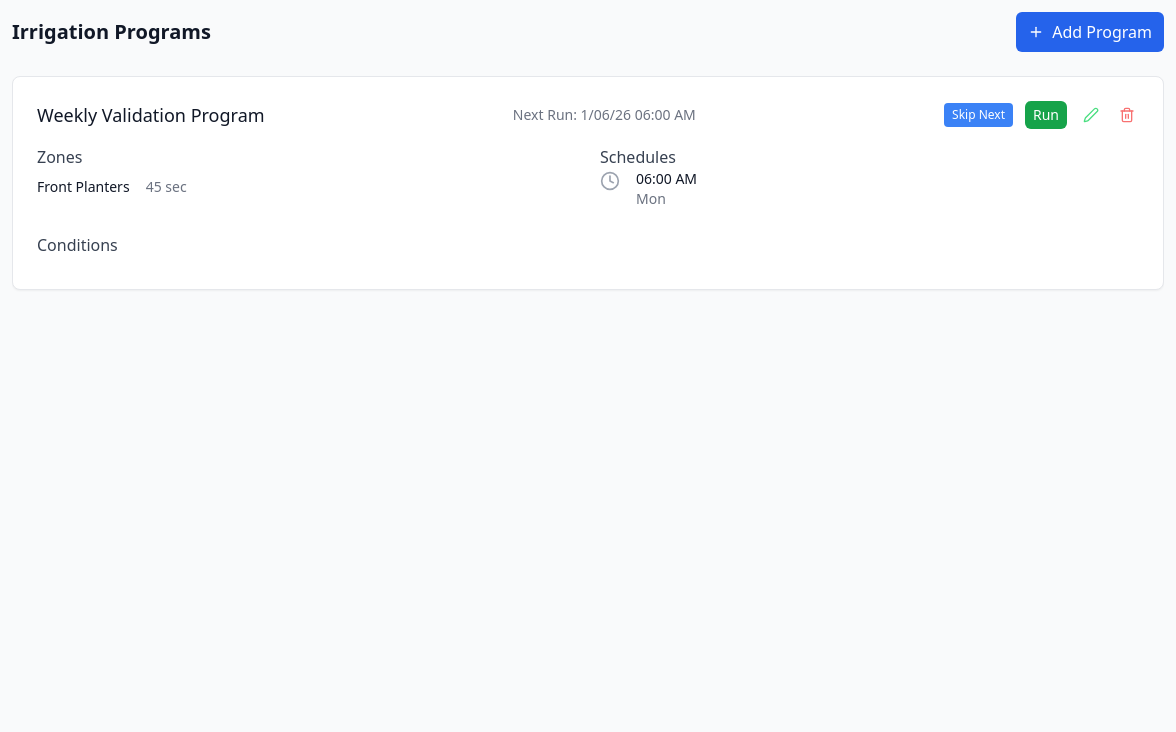
it: ProgramManager › blocks saving an enabled weekly schedule when no days are selected
Click the button named "Edit program Weekly Validation Program": {"x": 1091, "y": 115} [1079, 103, 1103, 127]
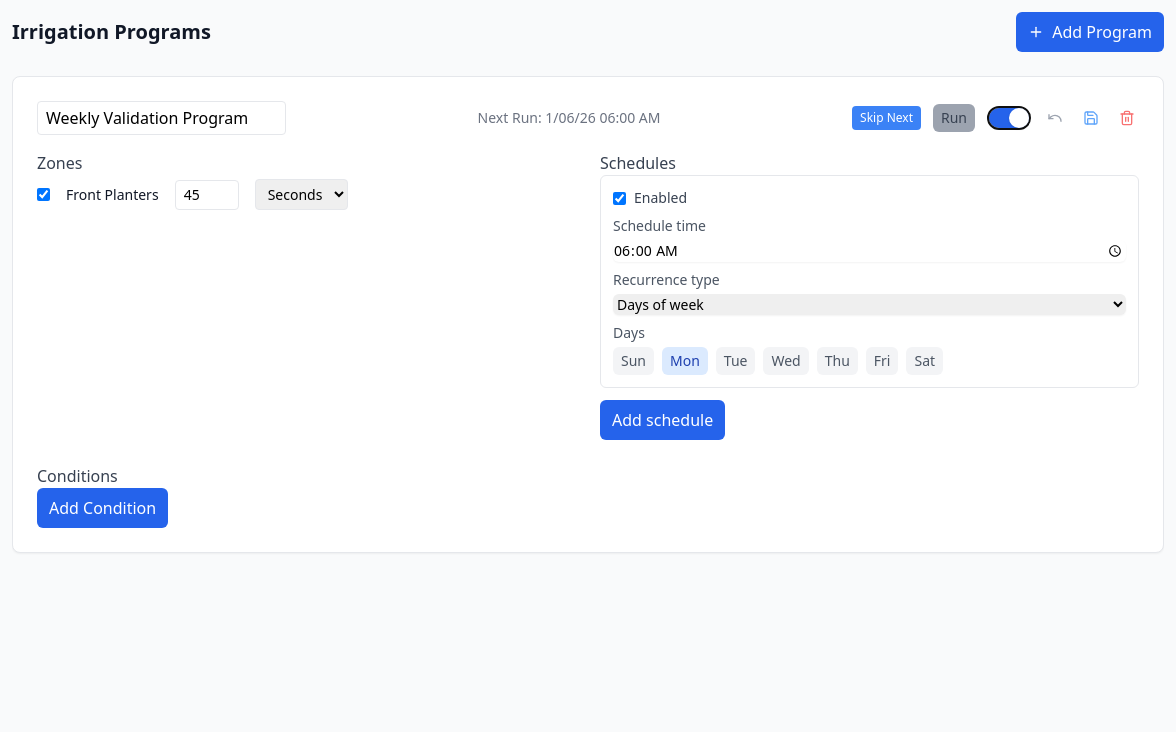
Click the button "Mon": {"x": 685, "y": 361} [662, 347, 708, 375]
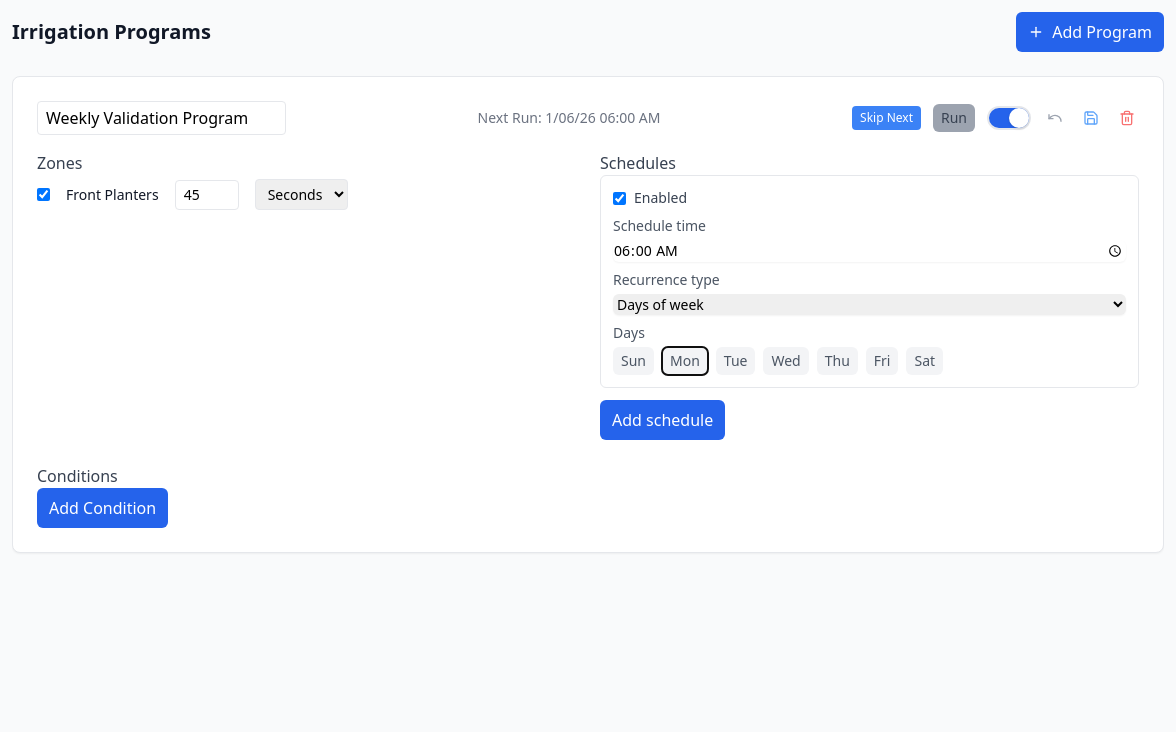
Click the button named "Save program Weekly Validation Program": {"x": 1091, "y": 118} [1079, 106, 1103, 130]
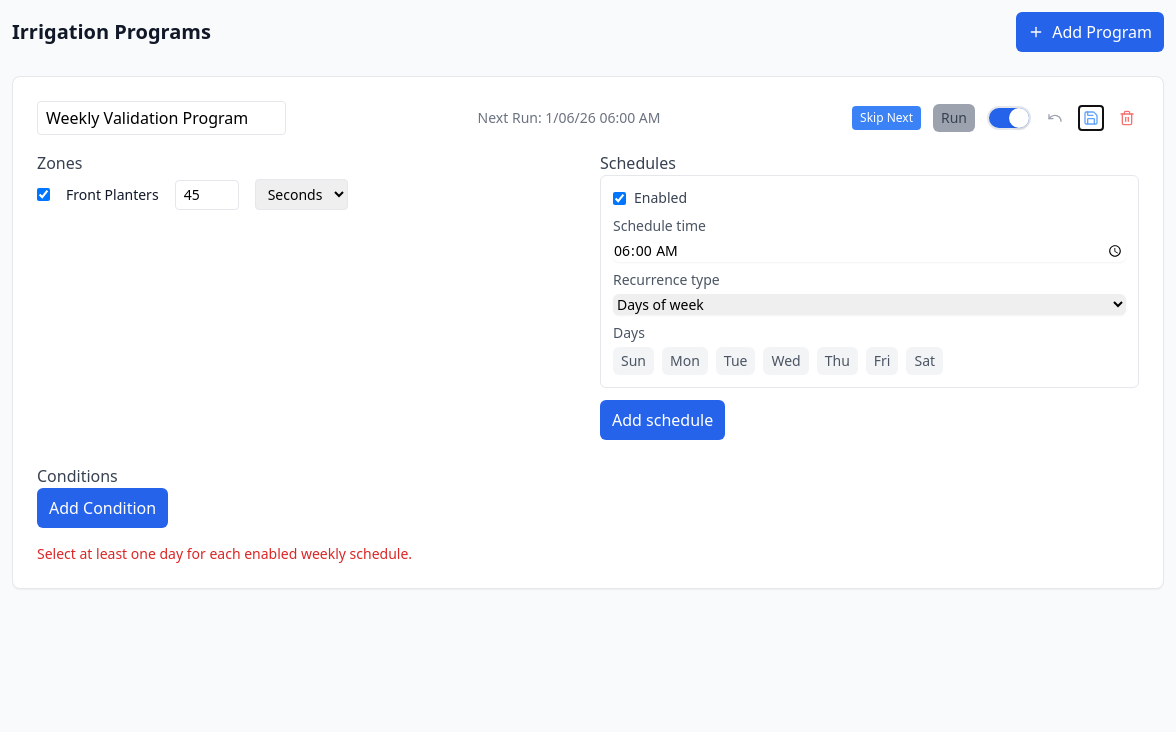
expect the text "Select at least one day for each enabled weekly schedule." is shown: met, box [37, 544, 412, 563]
